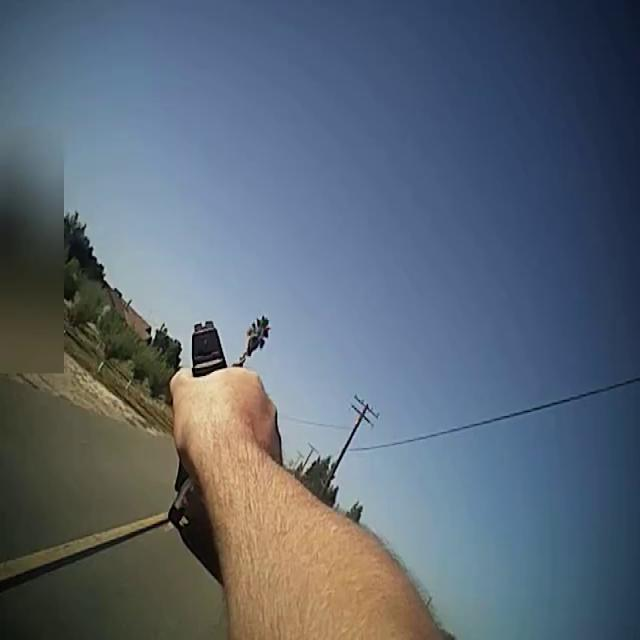gun: (162, 300, 252, 554)
